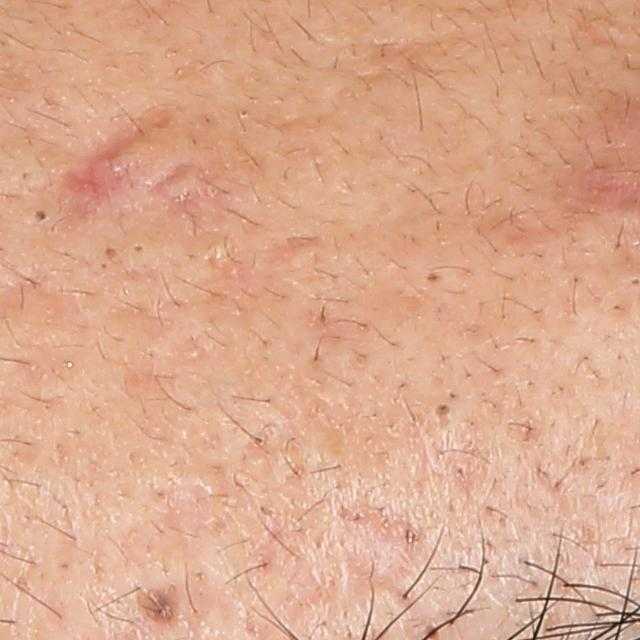atrophic_scar: (56, 106, 176, 224), (328, 490, 432, 623), (144, 165, 237, 229)
comedo: (424, 394, 464, 425), (24, 199, 54, 235), (424, 271, 445, 284)
nevus: (134, 581, 181, 629)
